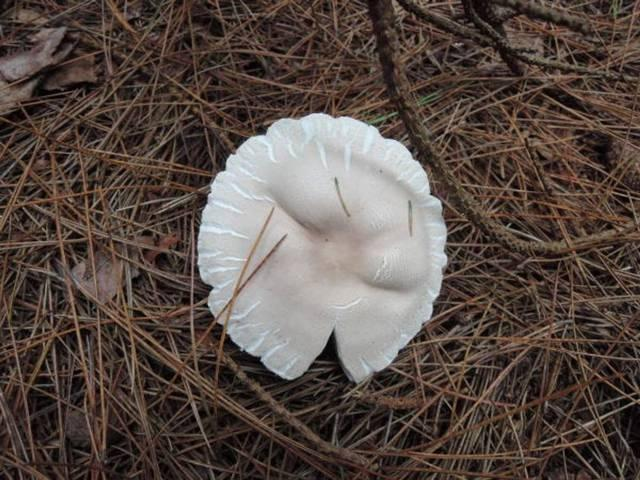Non-edible Mushroom: (195, 111, 449, 385)
